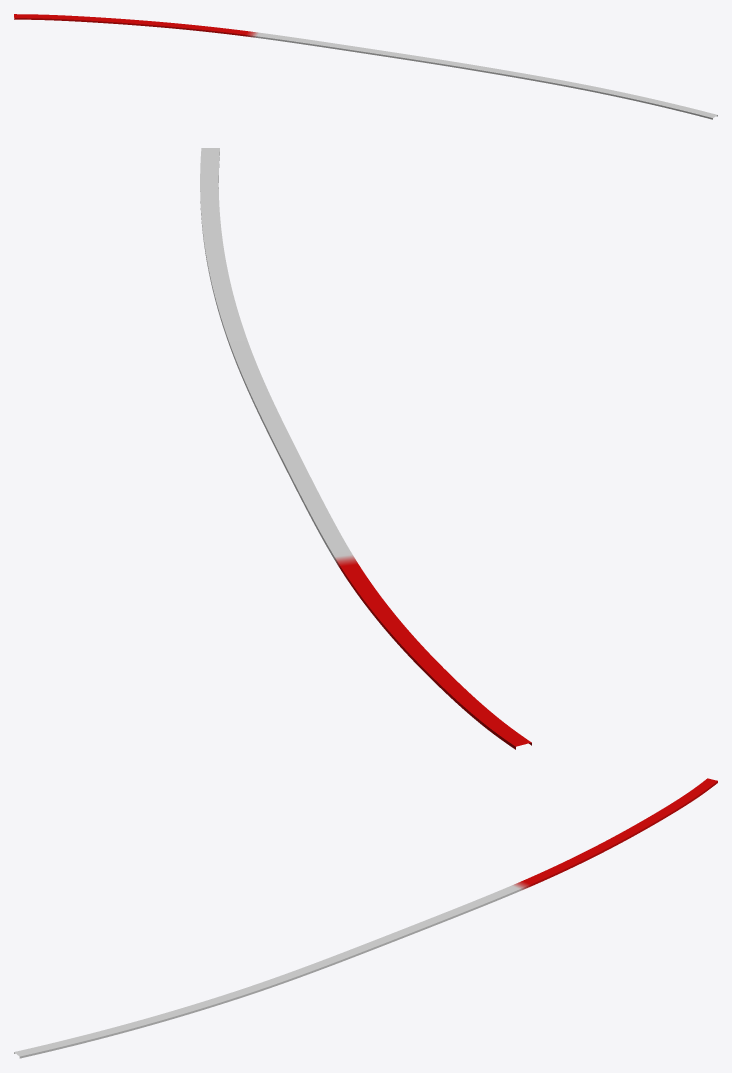
File: TerrainColliderMerged_12.fbx
3 views of the same model, one above another, from view 1: azimuth 30°, elevation 25°; view 2: azimuth 150°, elevation 25°; view 3: azimuth 270°, elevation 25° (orthographic). The views are drawn at different scales.
Visible parts, largest first — view 1: T_12; view 2: T_12; view 3: T_12.
Part boxes in pixels (<box>): T_12: <box>14,14,717,119</box>; T_12: <box>200,148,531,749</box>; T_12: <box>14,778,717,1058</box>.
Size of the model in its own units: 28543 by 467 by 31353.
